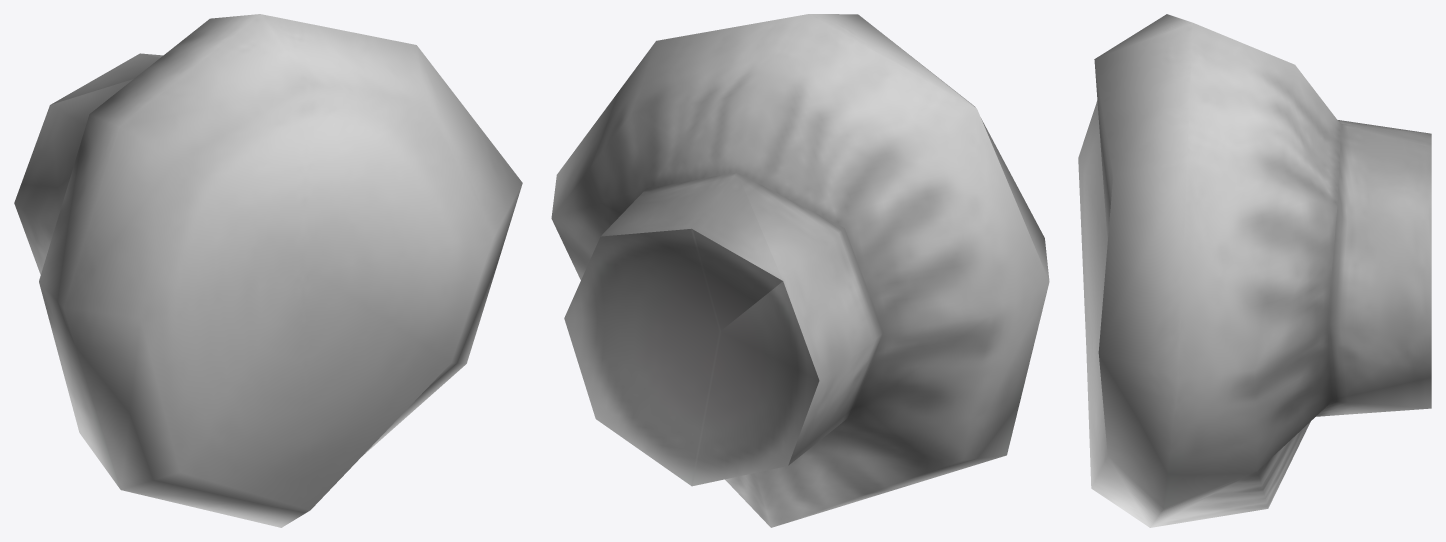
Rendered from tt_m_chr_avt_acc_hat_chefsHat.glb.
The picture shows the model from 3 angles, left to right: view 1: azimuth 30°, elevation 25°; view 2: azimuth 150°, elevation 25°; view 3: azimuth 270°, elevation 25°; orthographic projection.
Parts seen in each view (by area): view 1: tt_m_chr_avt_acc_hat_chefsHat; view 2: tt_m_chr_avt_acc_hat_chefsHat; view 3: tt_m_chr_avt_acc_hat_chefsHat.
Part boxes in pixels (bbox=[...]): tt_m_chr_avt_acc_hat_chefsHat: bbox=[14, 14, 522, 527]; tt_m_chr_avt_acc_hat_chefsHat: bbox=[551, 14, 1049, 527]; tt_m_chr_avt_acc_hat_chefsHat: bbox=[1078, 14, 1431, 527].
Bounding box in the file's own units: 5.52 × 5.56 × 3.53.
Materials: 1 (1 with a texture image).
